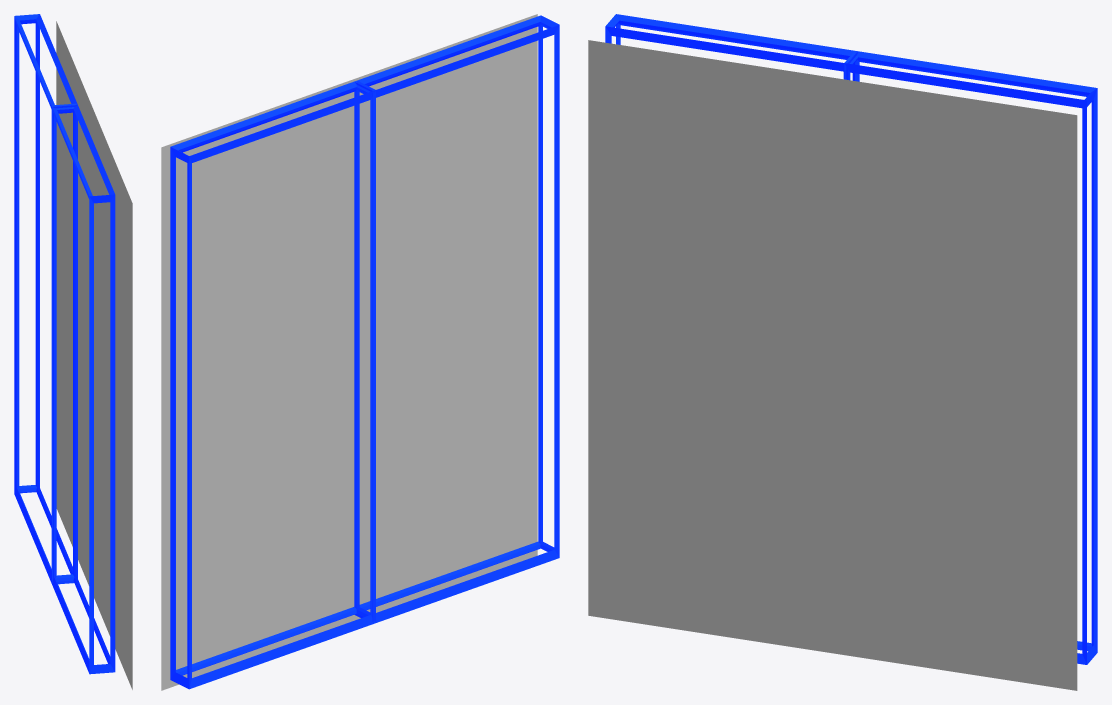
Rendered from wireframewindowv2.glb.
The picture shows the model from 3 angles, left to right: view 1: azimuth 30°, elevation 25°; view 2: azimuth 150°, elevation 25°; view 3: azimuth 270°, elevation 25°; orthographic projection. The views are drawn at different scales.
Parts seen in each view (by area): view 1: Plane.001, Cube.001; view 2: Plane.001, Cube.001; view 3: Plane.001, Cube.001.
Part boxes in pixels (bbox=[...]): Plane.001: bbox=[56, 21, 132, 689]; Cube.001: bbox=[14, 14, 115, 674]; Plane.001: bbox=[161, 14, 537, 690]; Cube.001: bbox=[170, 15, 559, 689]; Plane.001: bbox=[588, 40, 1077, 690]; Cube.001: bbox=[605, 14, 1097, 664].
Bounding box in the file's own units: 6.13 × 17.84 × 14.11.
